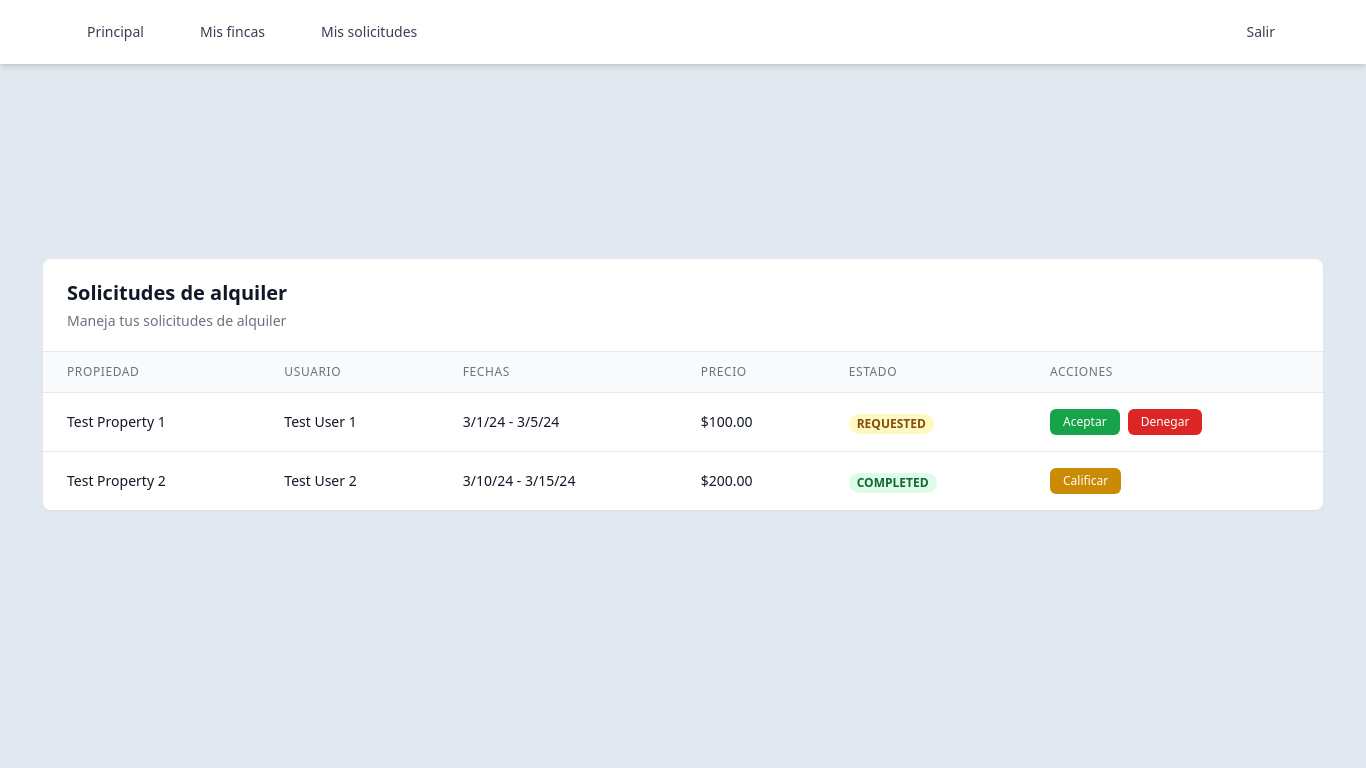
Owner Requests Page › Request Actions › should handle deny request action
Step 1. Click the button with test id "deny-button-1" → (1166,422), box x1=1128 y1=409 x2=1203 y2=435
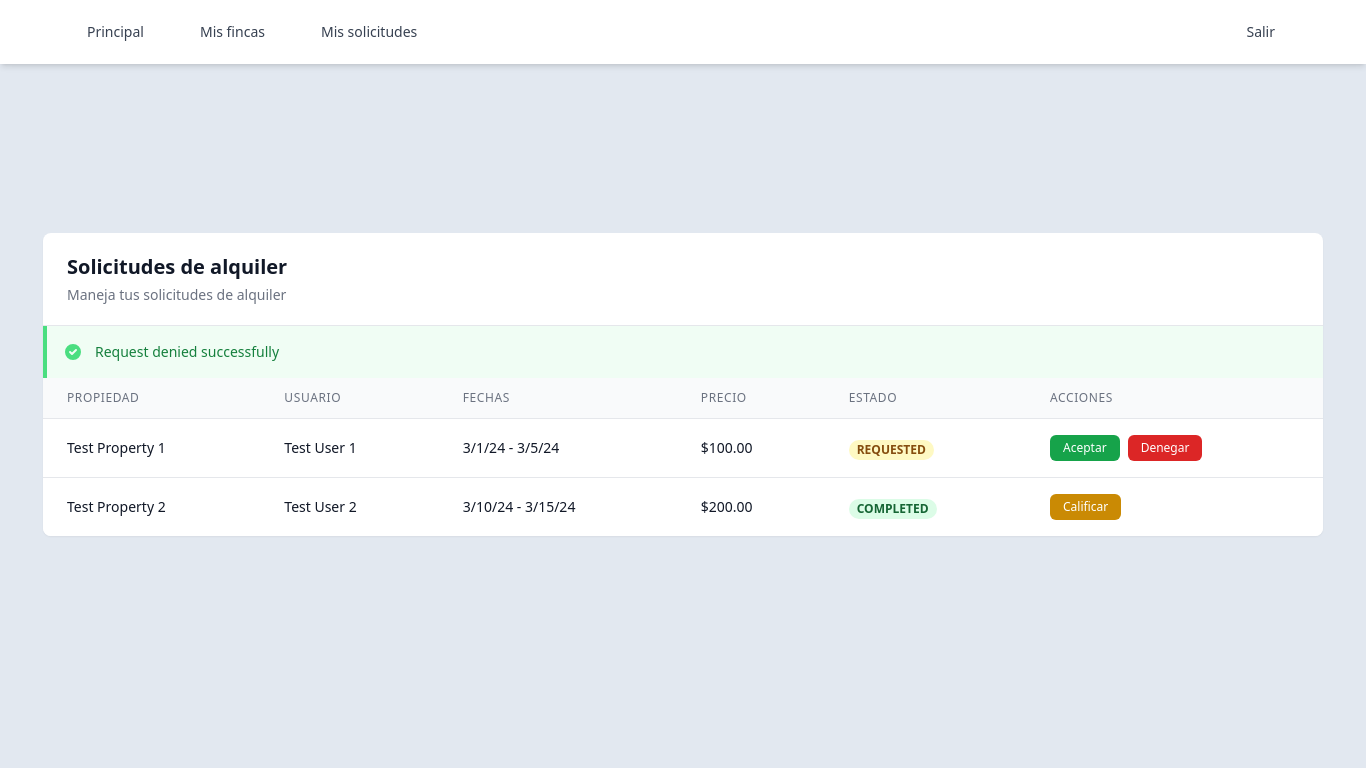
Result: the element with test id "success-message" is shown at x1=43 y1=326 x2=1323 y2=378
Result: the text with test id "success-message" reads "Request denied successfully" at x1=95 y1=342 x2=279 y2=361
